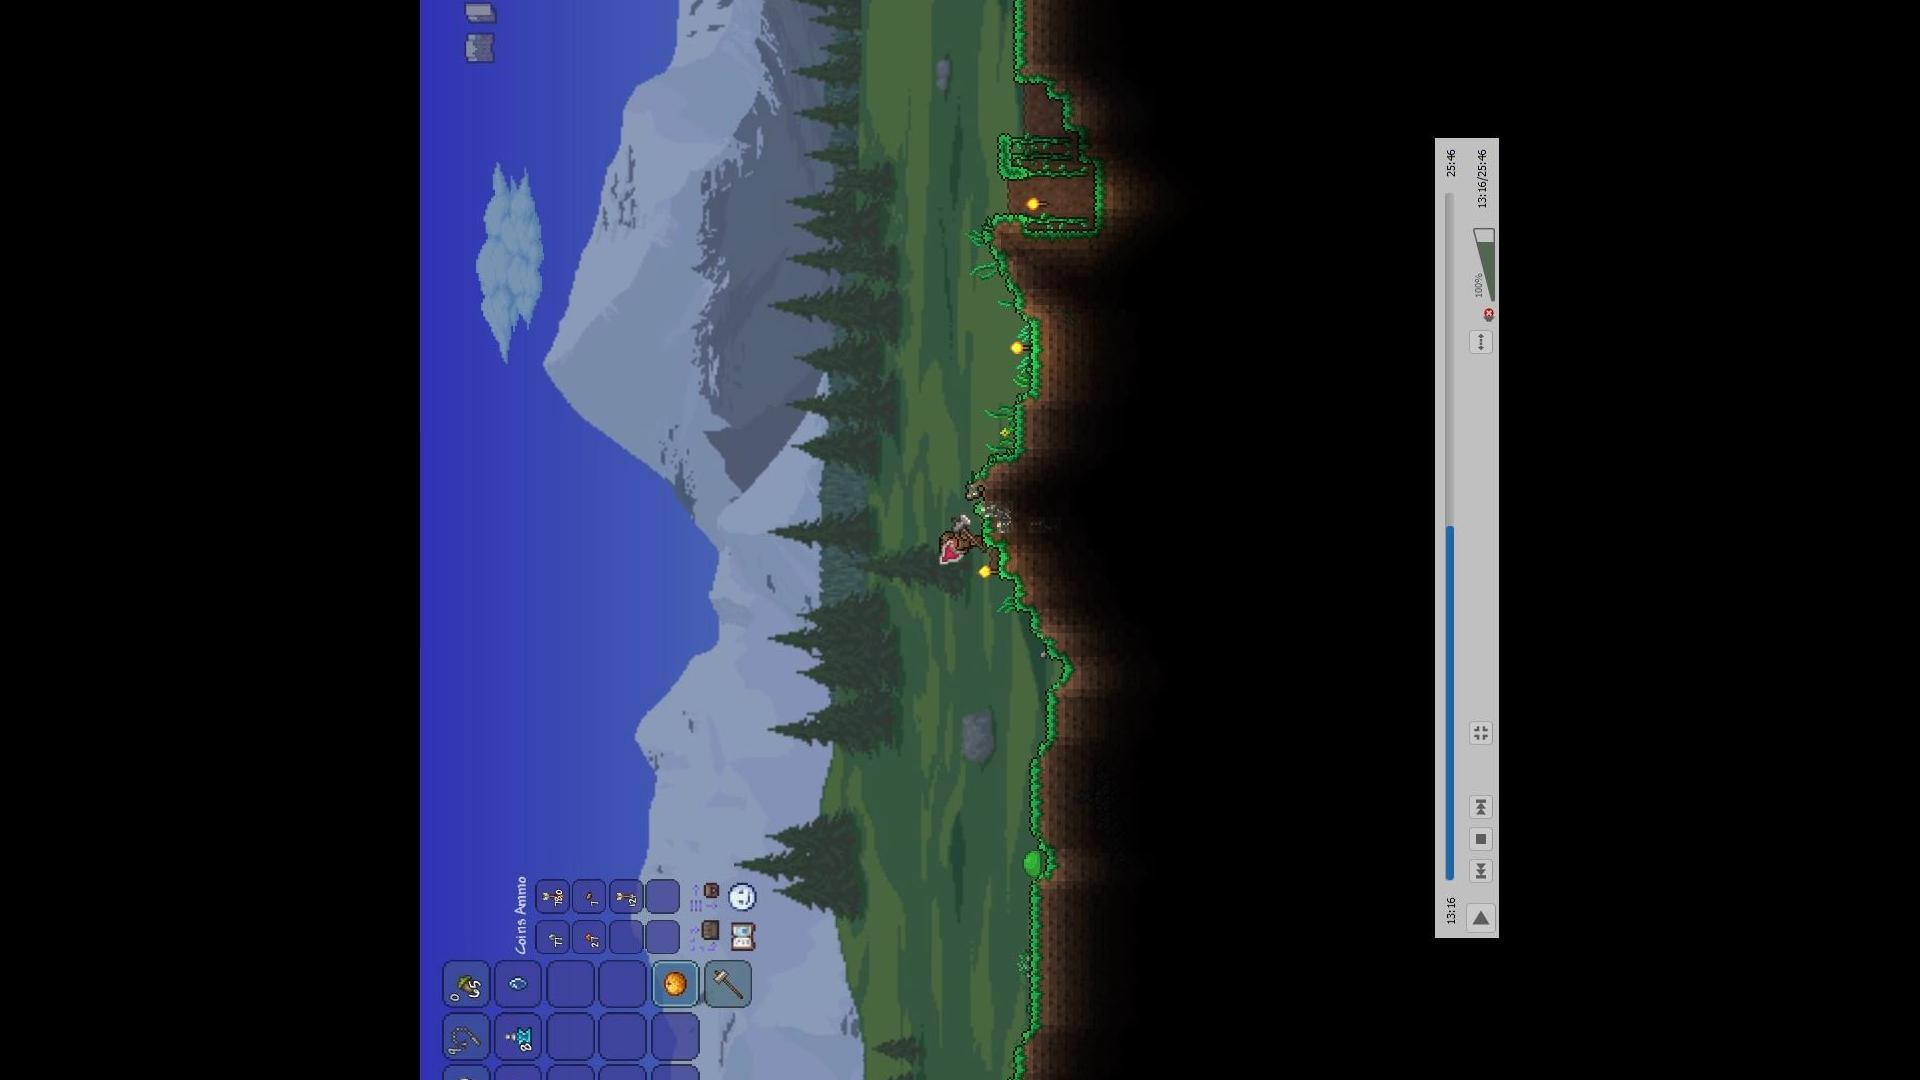recallP: (498, 1027, 535, 1050)
slime: (1017, 845, 1047, 880)
